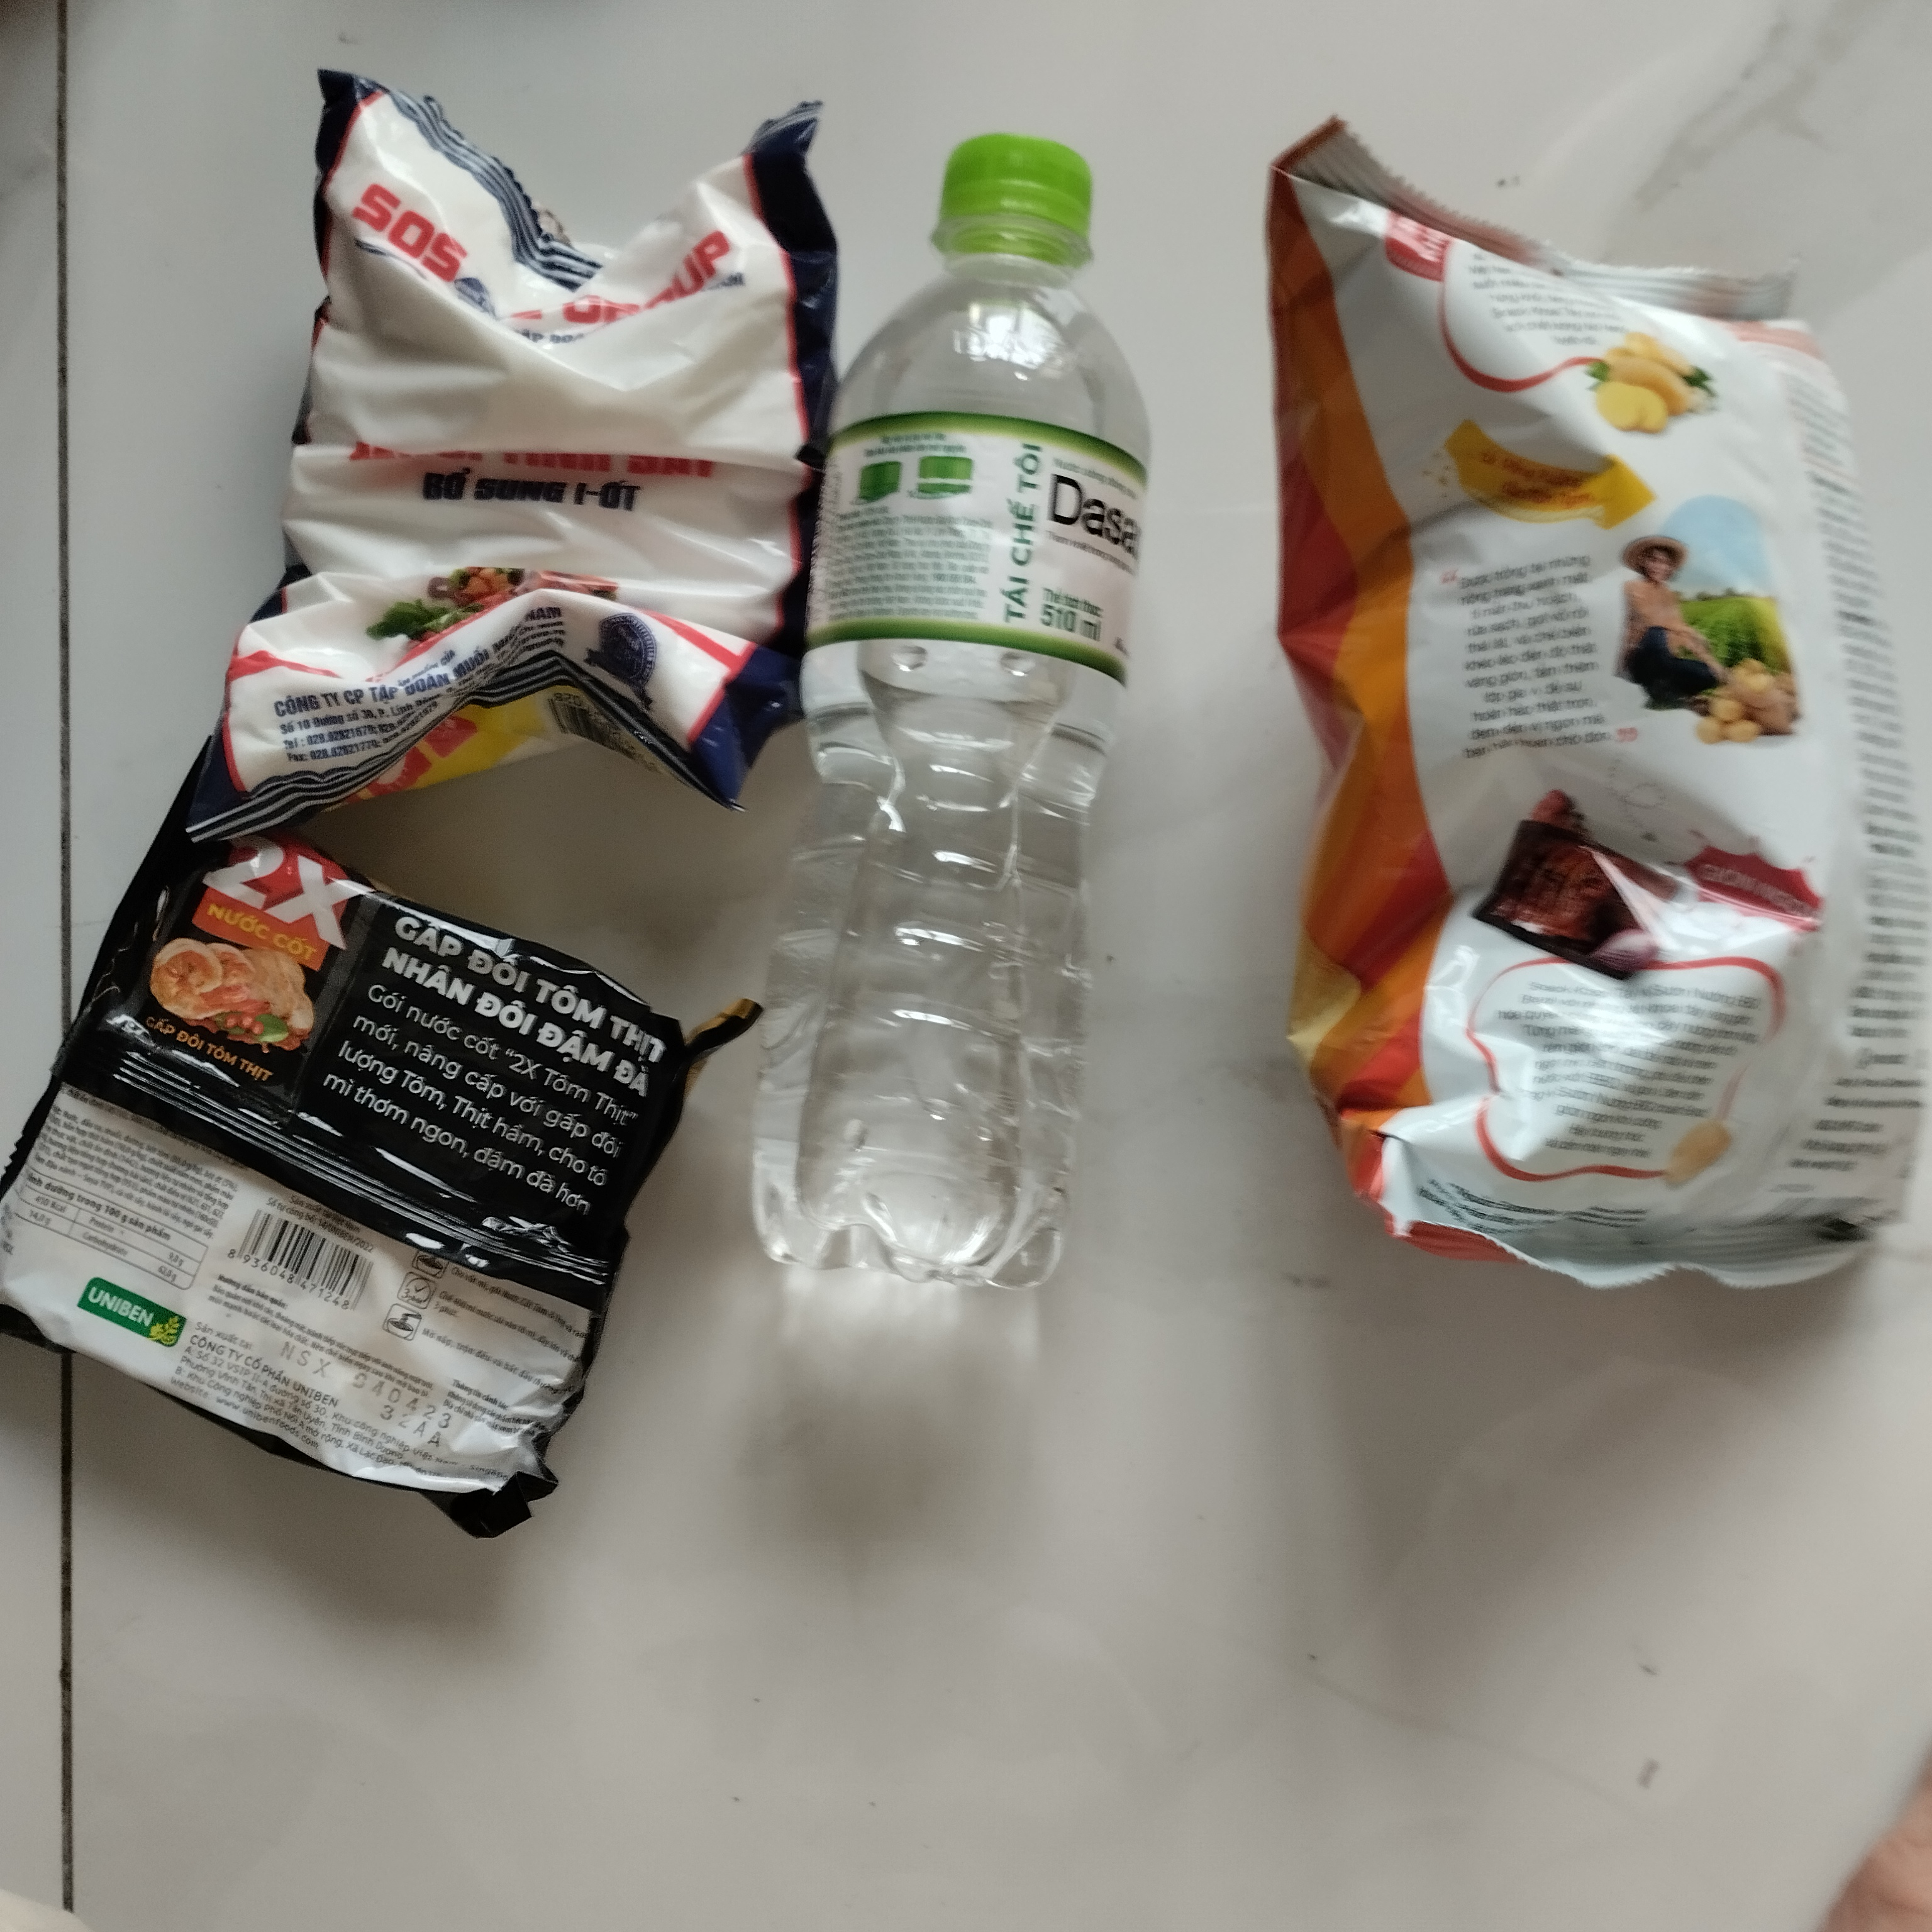3mien: (7, 724, 764, 1576)
Dasani: (745, 133, 1155, 1320)
Lays: (1256, 110, 1932, 1309)
Salt: (172, 53, 853, 876)
